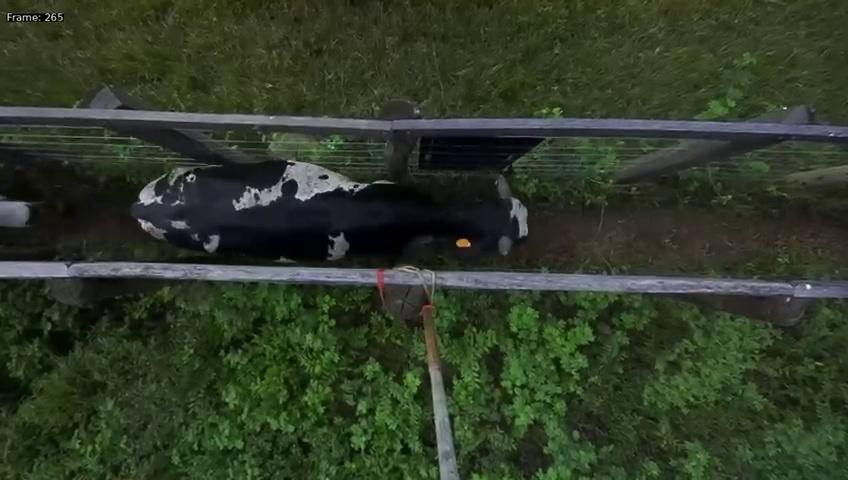cattle: (128, 147, 532, 276)
